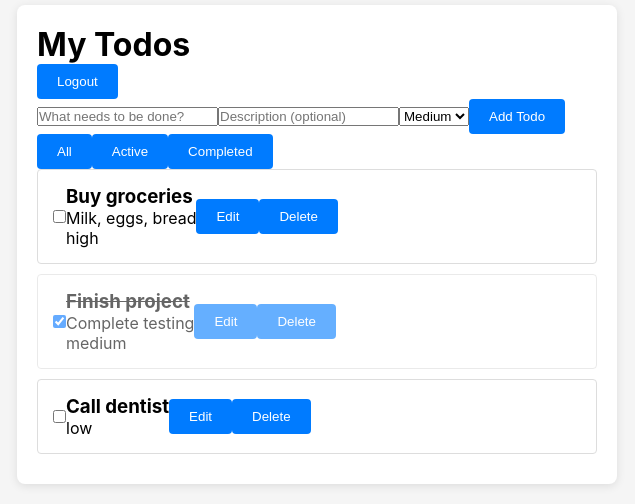
TodoList Integration Tests › shows all todos when "All" filter is selected
expect the heading "Buy groceries" is shown: met, box [66,185,196,208]
// Click "Active" first
Click the button "Active" at (130, 152), box [92,134,168,169]
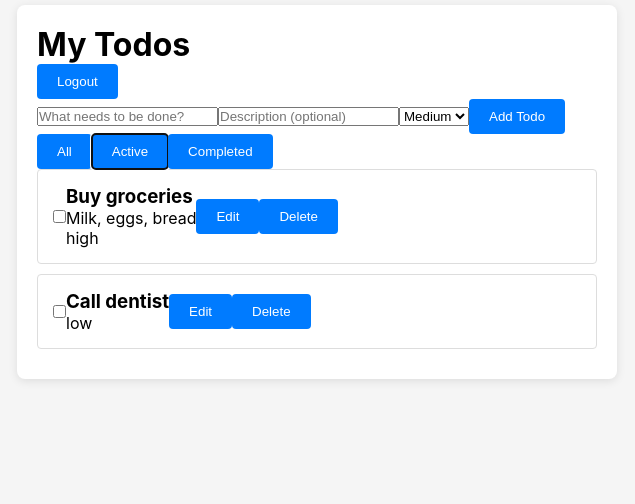
// Then click "All"
Click the button "All" at (64, 152), box [37,134,92,169]
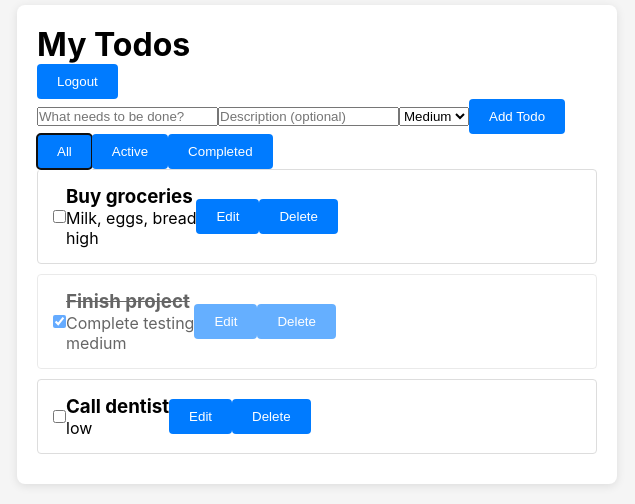
expect the heading "Buy groceries" is shown: met, box [66,185,196,208]
expect the heading "Finish project" is shown: met, box [66,290,194,313]
